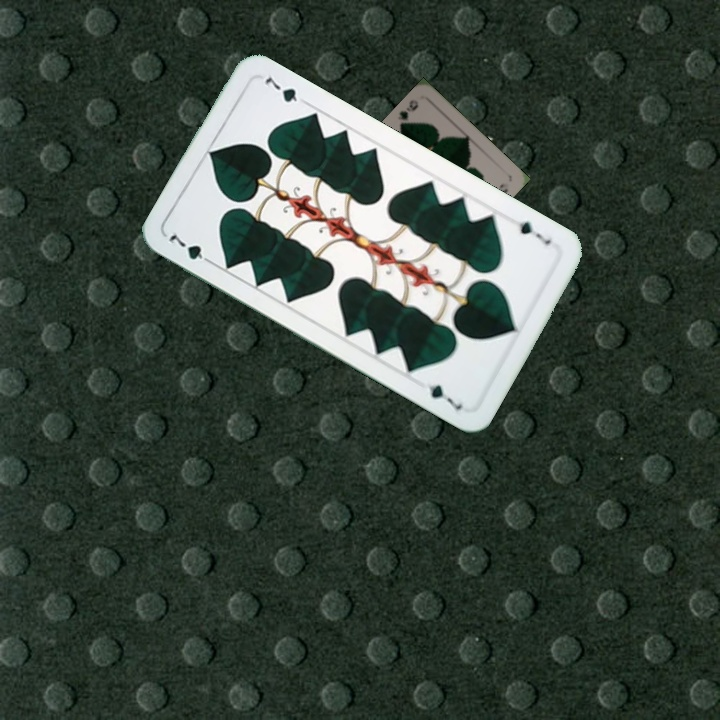G7: (164, 230, 217, 268), (514, 217, 554, 248)
G9: (394, 95, 421, 132)
